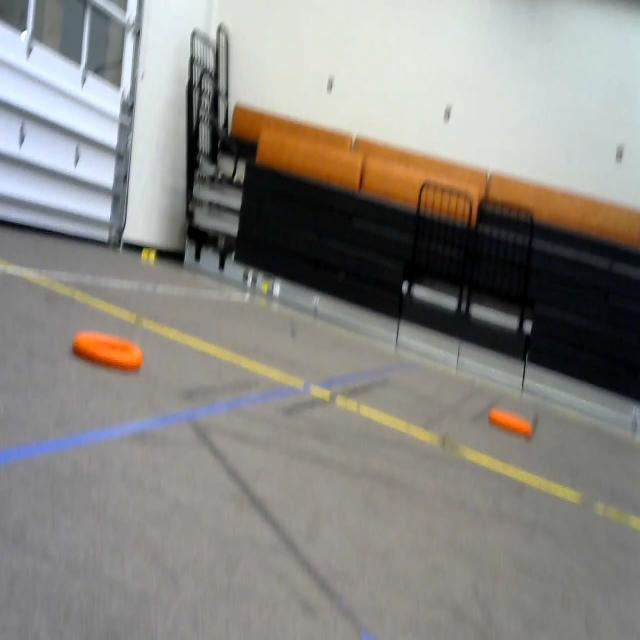note: (67, 328, 147, 380), (487, 396, 536, 444)
